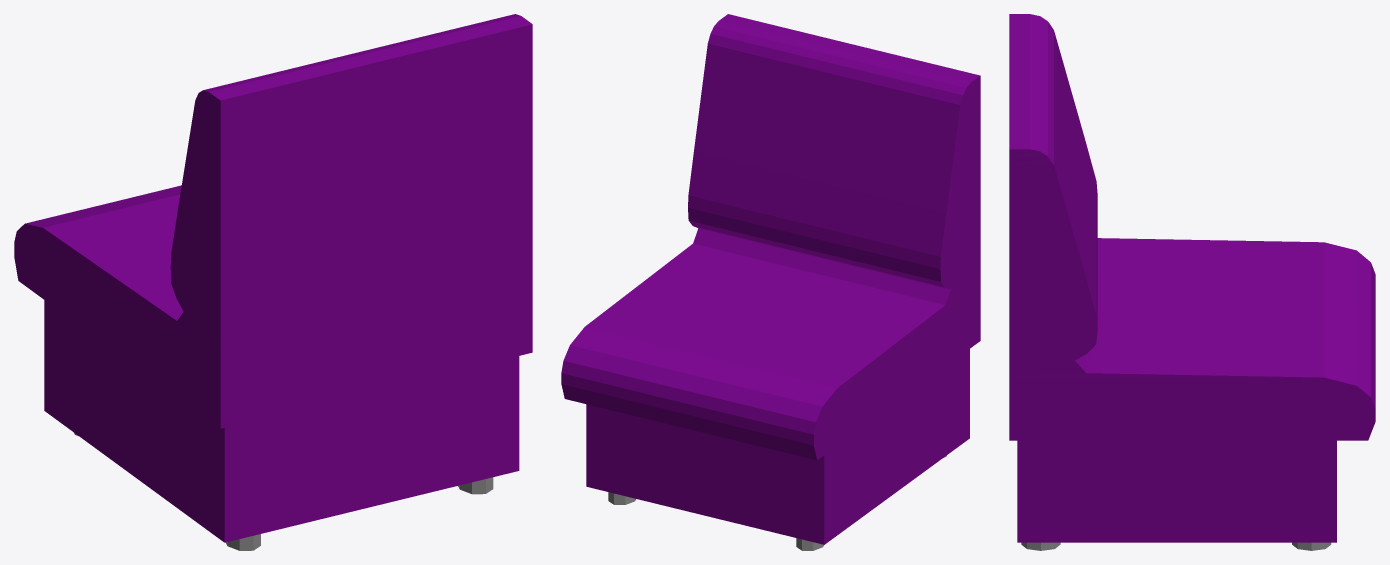
Rendered from soft_chair_visual_violet.dae.
3 views of the same model, side by side, from view 1: azimuth 30°, elevation 25°; view 2: azimuth 150°, elevation 25°; view 3: azimuth 270°, elevation 25° (orthographic). The views are drawn at different scales.
Visible parts, largest first — view 1: Circle; view 2: Circle; view 3: Circle.
Part boxes in pixels (<box>): Circle: <box>14,14,532,550</box>; Circle: <box>561,14,980,550</box>; Circle: <box>1009,14,1375,550</box>.
Size of the model in its own units: 68.14 by 77.97 by 96.93.
